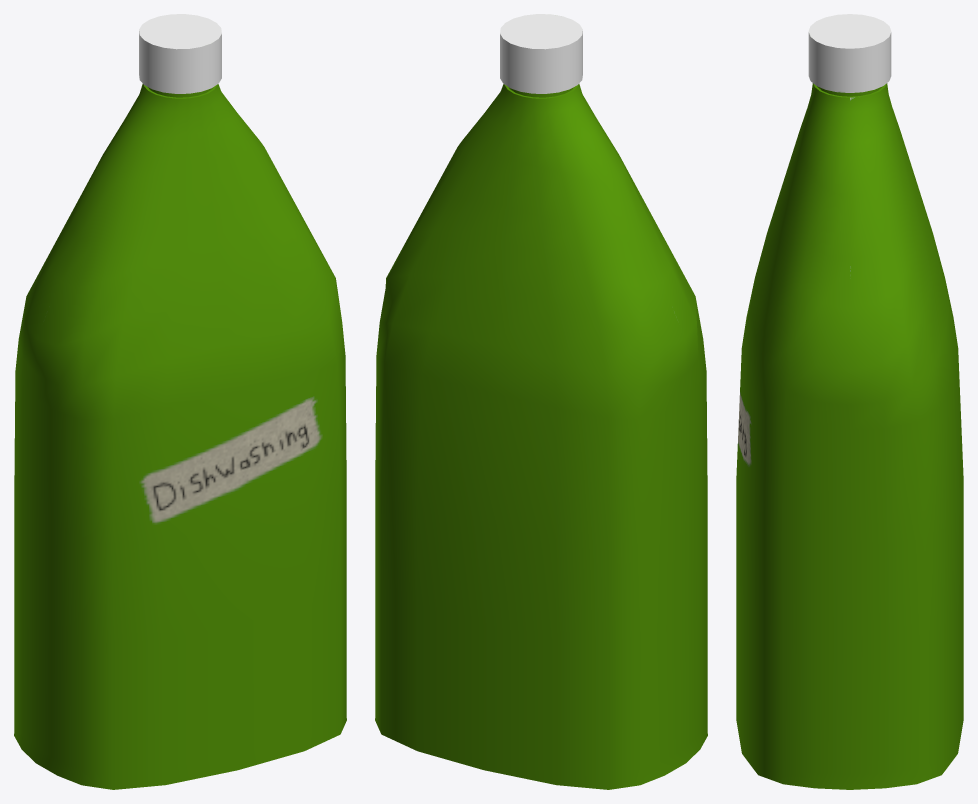
File: Dishwashing Liquid.fbx
The picture shows the model from 3 angles, left to right: view 1: azimuth 30°, elevation 25°; view 2: azimuth 150°, elevation 25°; view 3: azimuth 270°, elevation 25°; orthographic projection.
Parts seen in each view (by area): view 1: Dishwashing_liquid1; view 2: Dishwashing_liquid1; view 3: Dishwashing_liquid1.
Boxes of the visible parts, x1,y1,x2,y2 form: Dishwashing_liquid1: [14, 14, 346, 789]; Dishwashing_liquid1: [375, 14, 707, 789]; Dishwashing_liquid1: [736, 14, 963, 789].
Bounding box in the file's own units: 1.55 × 3.58 × 1.07.
1 material, 1 textured.
